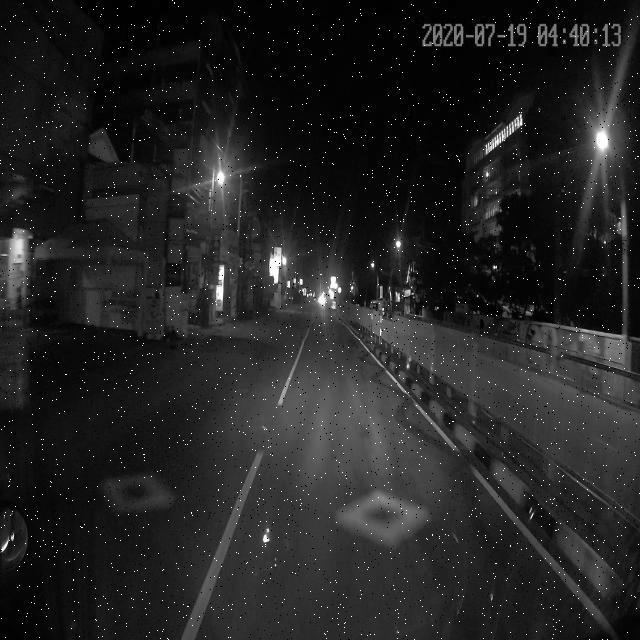diamond: (188, 460, 577, 573)
